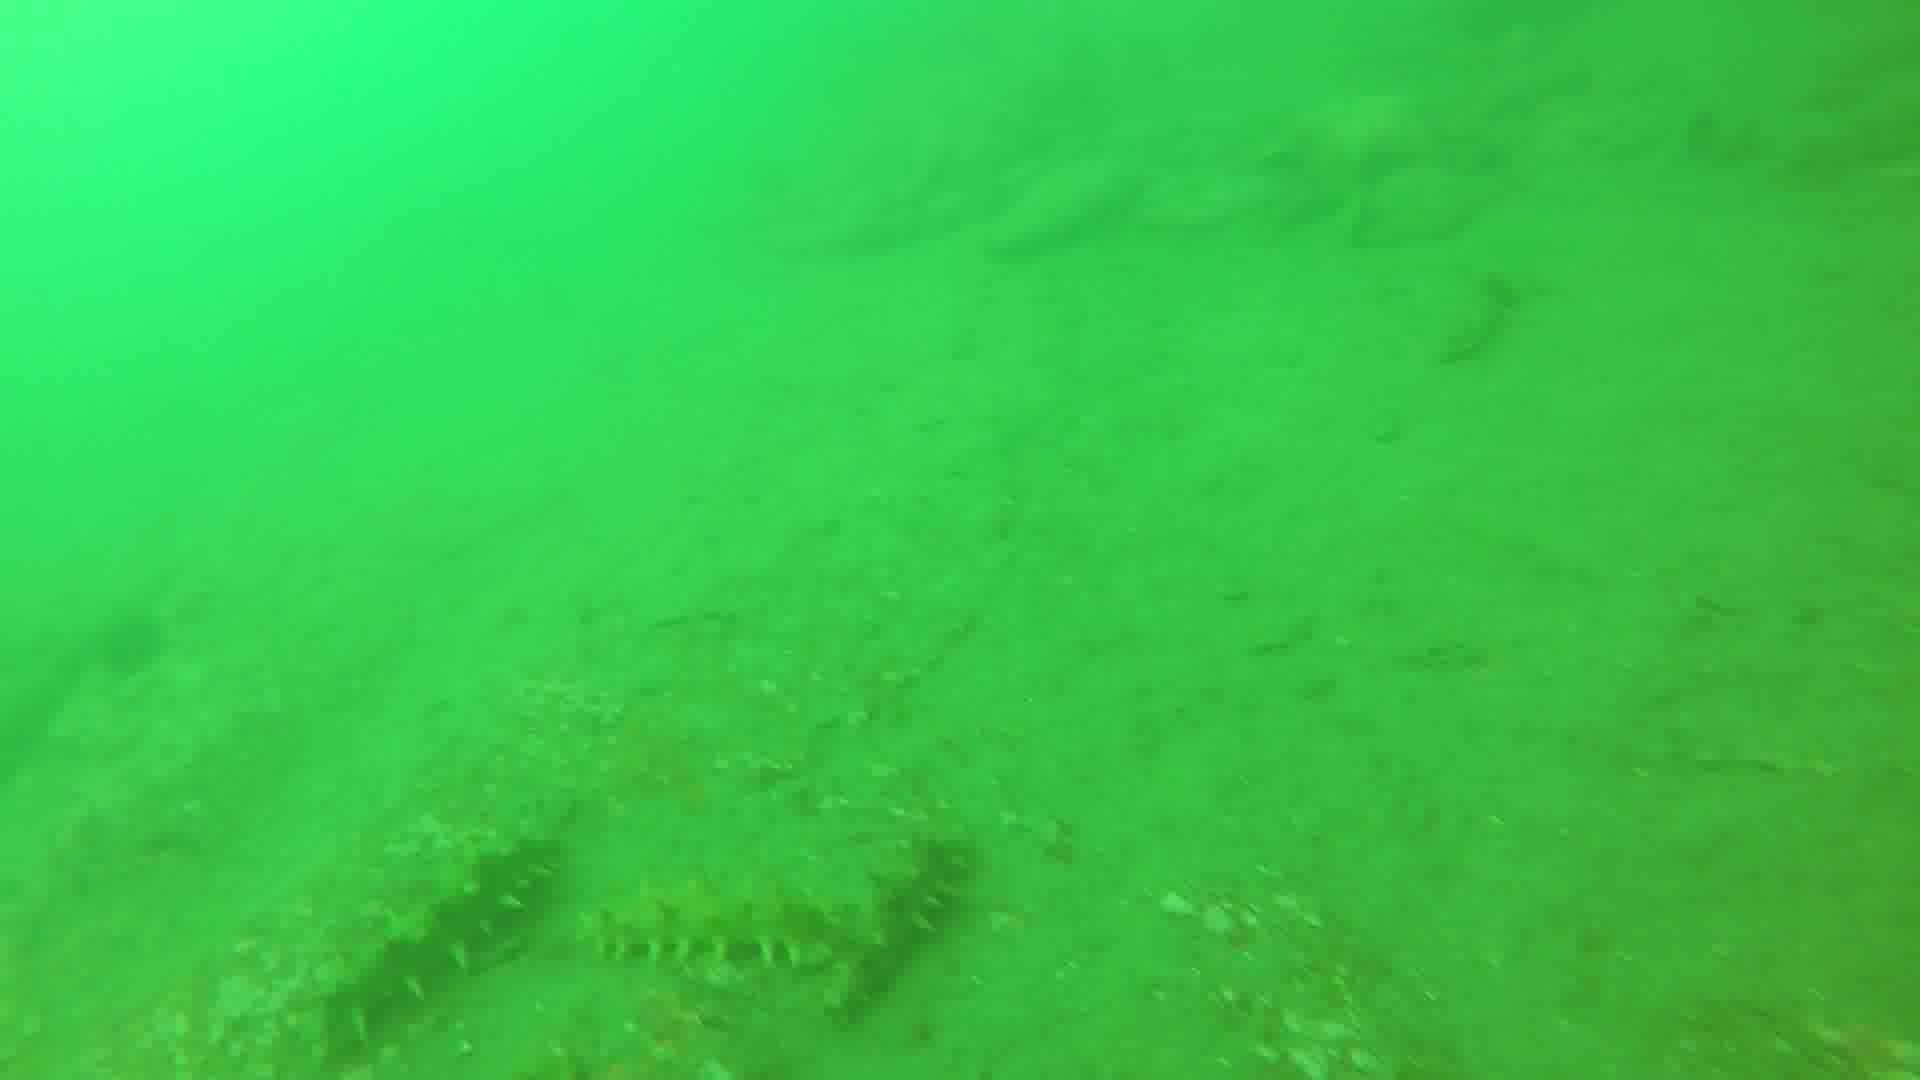holothurian: (311, 839, 560, 1077), (814, 836, 984, 1021), (574, 882, 841, 975)
